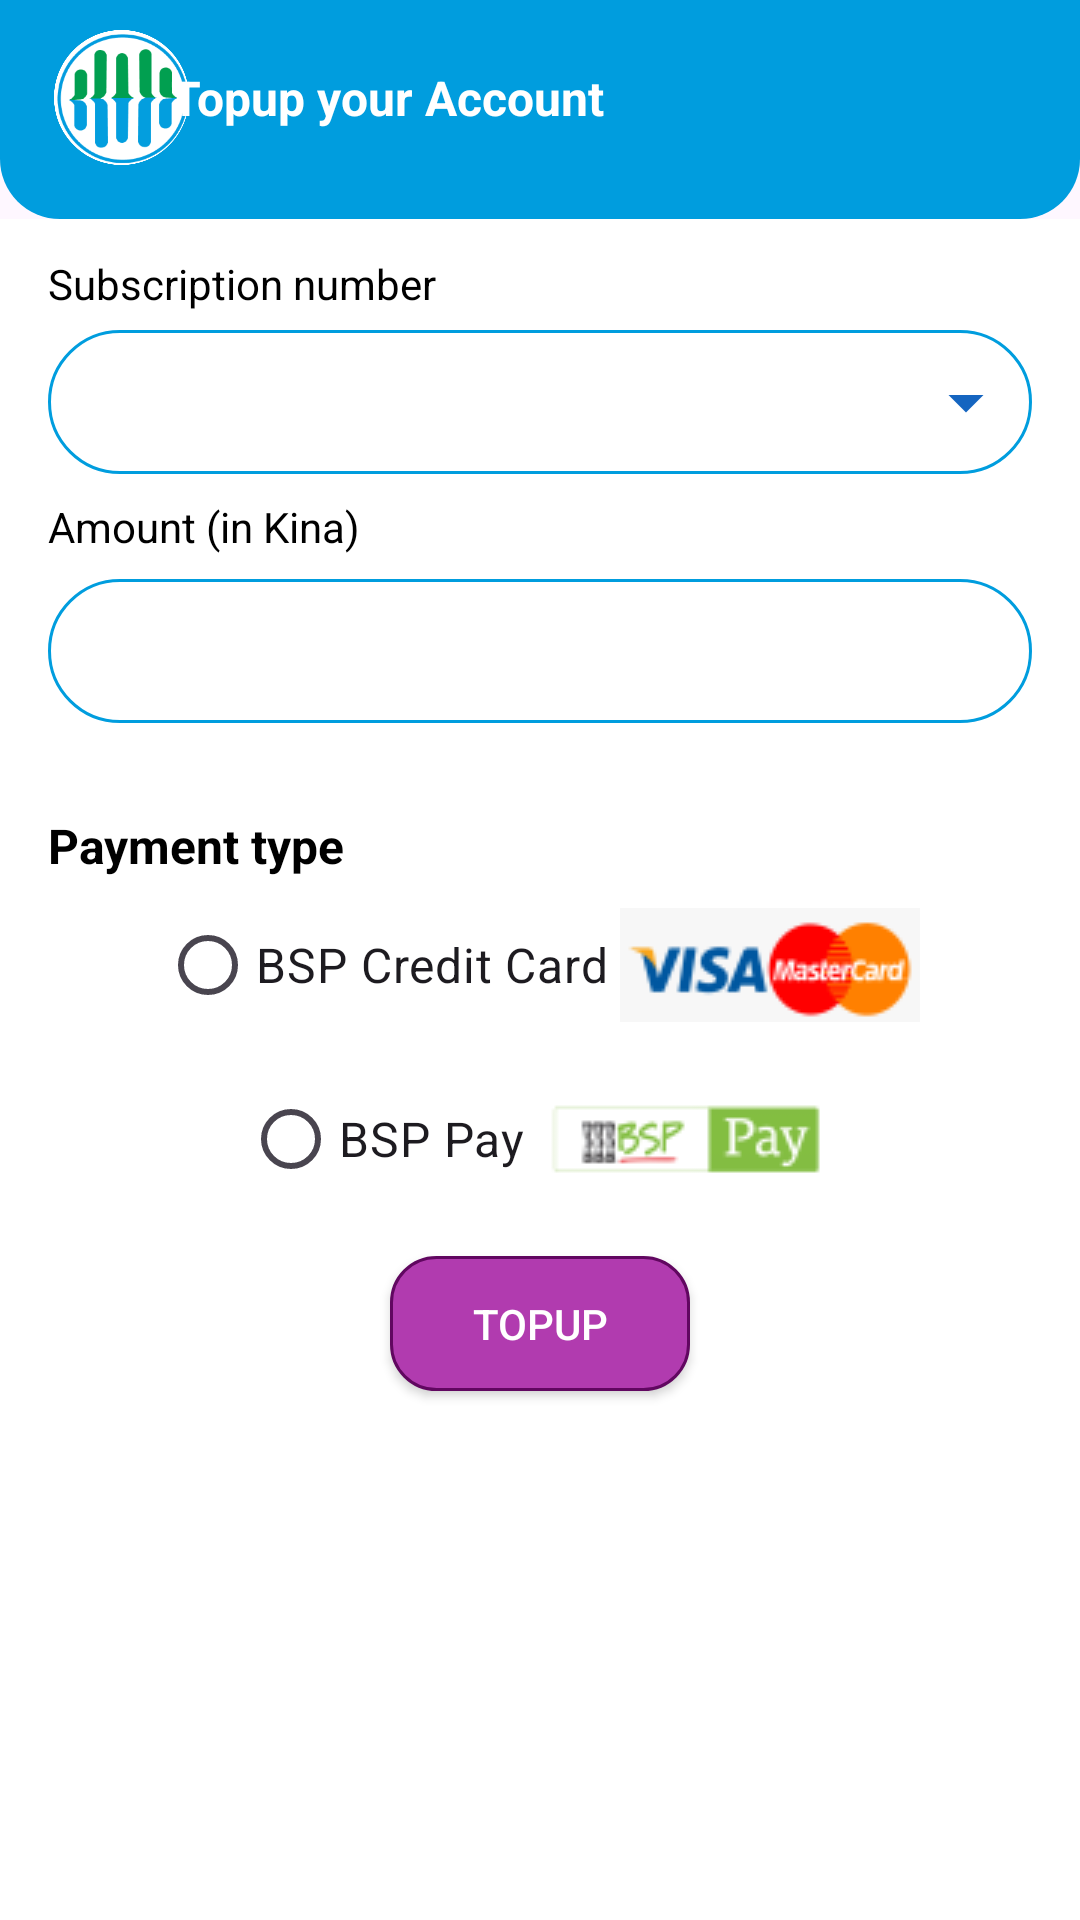

Icon bounding boxes for this 1080px×1920px phone screenshot, format (x1, y1, x2, y2):
dropdown: (948, 395, 984, 413)
